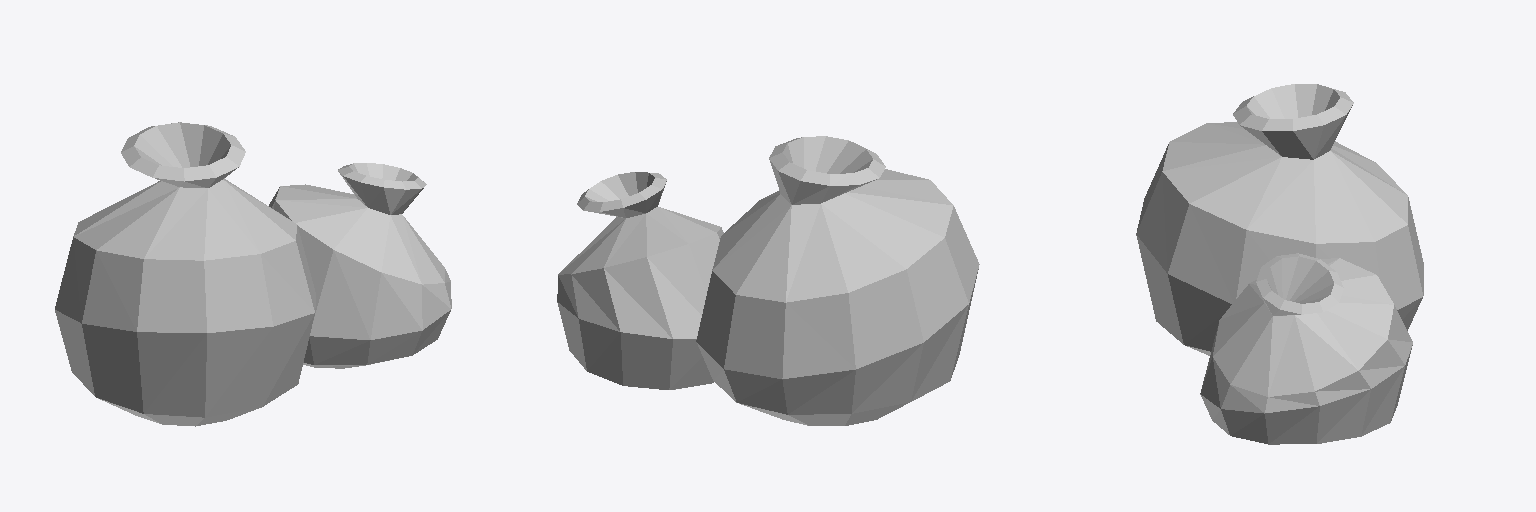
The model's file is jug_002.obj.
3 views of the same model, side by side, from view 1: azimuth 30°, elevation 25°; view 2: azimuth 150°, elevation 25°; view 3: azimuth 270°, elevation 25° (orthographic).
Parts seen in each view (by area): view 1: jug_002; view 2: jug_002; view 3: jug_002.
Boxes of the visible parts, <box> form: jug_002: <box>55,122,451,426</box>; jug_002: <box>557,136,979,425</box>; jug_002: <box>1136,84,1423,444</box>.
Bounding box in the file's own units: 0.8036 × 0.5142 × 0.5334.